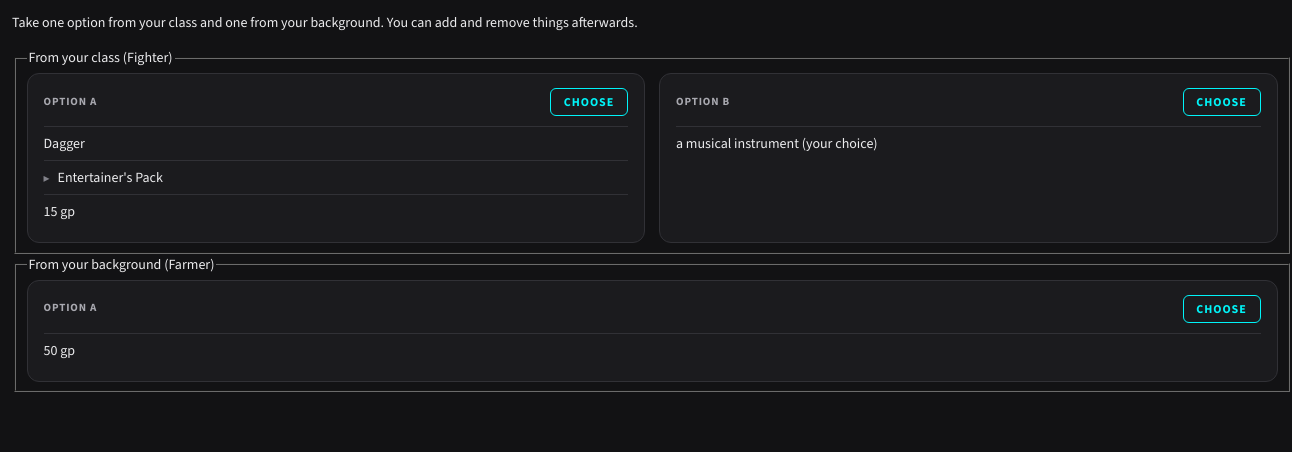
it: StartingEquipmentPicker › a pack row expands to its contents and collapses again, without choosing the option
Expected: the text "Costume ×3" is not shown
Click the button with aria-label "Entertainer's Pack contents" at (103, 177), box x1=44 y1=167 x2=163 y2=188
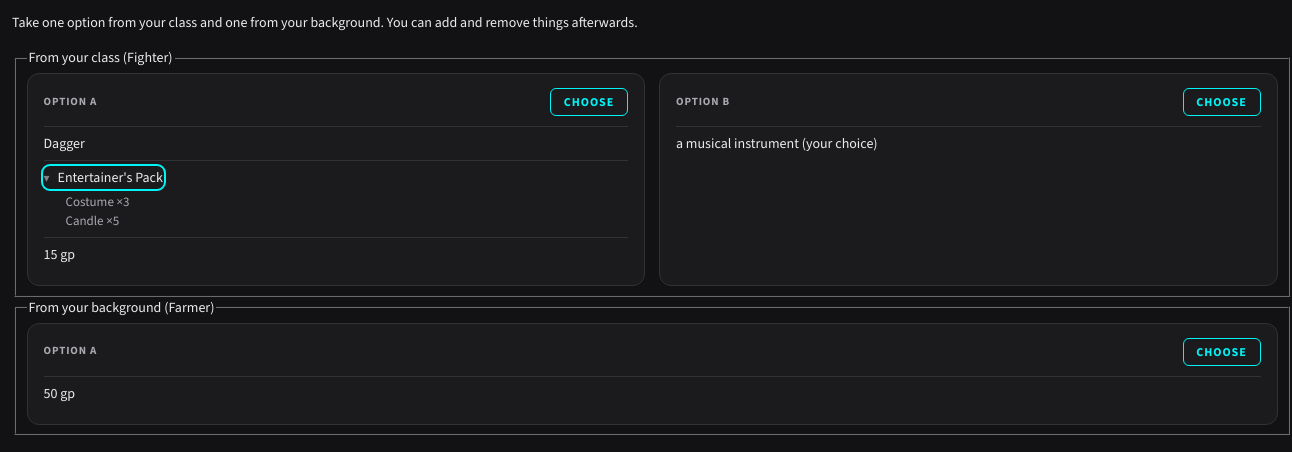
Now the button with aria-label "Entertainer's Pack contents" is expanded
Now the list item "Costume ×3" is shown, box x1=66 y1=193 x2=129 y2=210
Now the list item "Candle ×5" is shown, box x1=66 y1=212 x2=119 y2=229
Click the button with aria-label "Entertainer's Pack contents" at (103, 177), box x1=44 y1=167 x2=163 y2=188
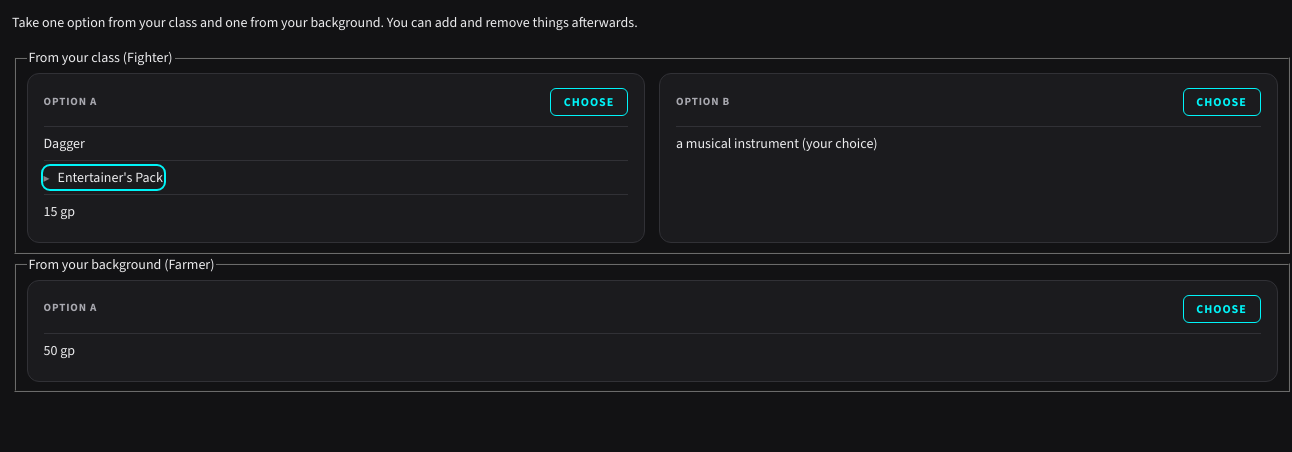
Now the list item "Costume ×3" is gone
